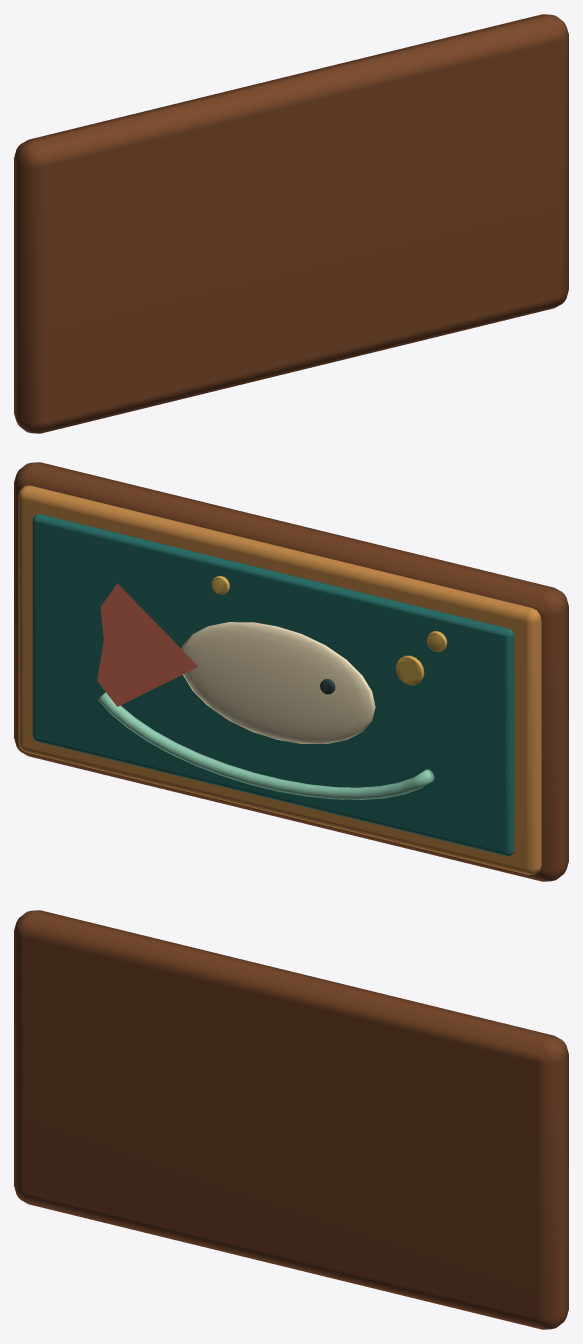
File: WallSign.fbx
3 renders of one model, top to bottom at view 1: azimuth 30°, elevation 25°; view 2: azimuth 150°, elevation 25°; view 3: azimuth 330°, elevation 25°, orthographic.
Visible parts, largest first — view 1: WallSign_Visual; view 2: WallSign_Visual; view 3: WallSign_Visual.
Part boxes in pixels (bbox=[...]): WallSign_Visual: bbox=[14, 14, 568, 433]; WallSign_Visual: bbox=[14, 462, 568, 881]; WallSign_Visual: bbox=[14, 910, 568, 1329].
Size of the model in its own units: 1.62 by 0.82 by 0.2235.
